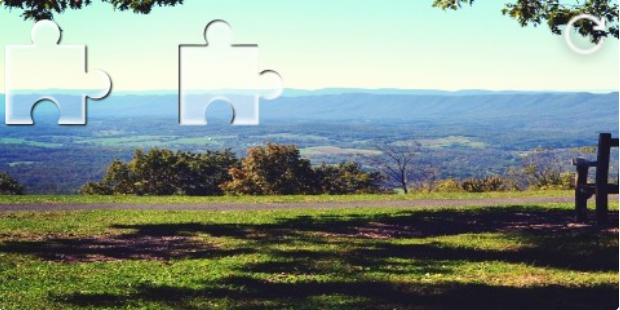target: (179, 20, 282, 125)
